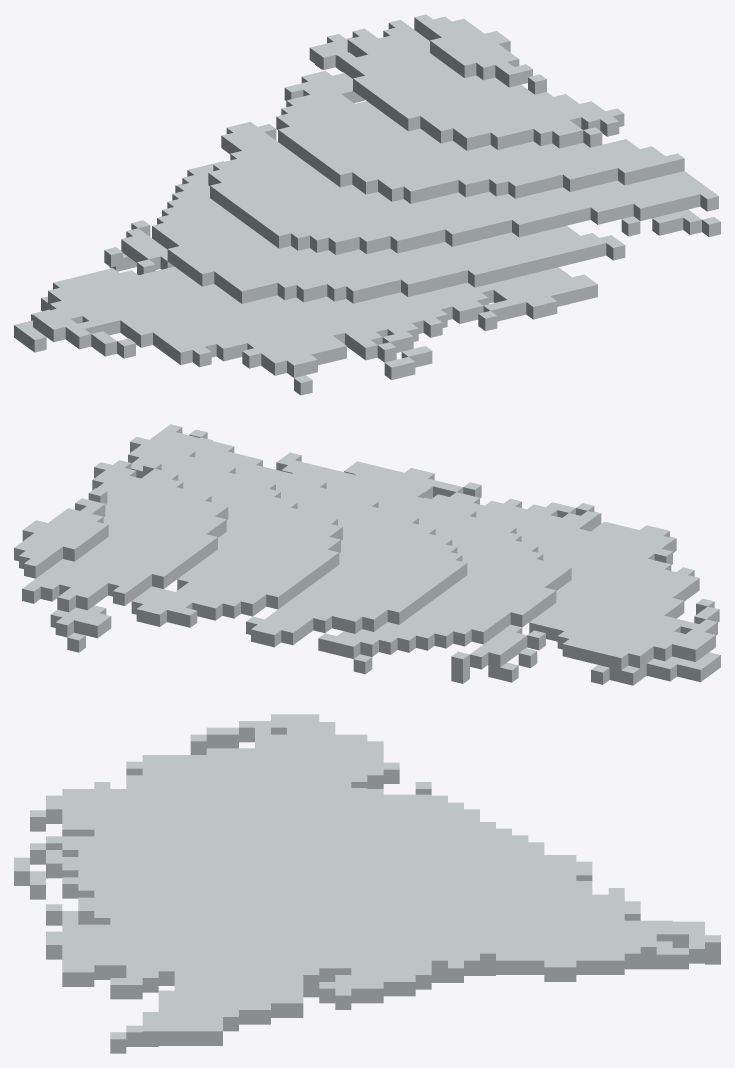
Rendered from Airplane-0.obj.
The picture shows the model from 3 angles, top to bottom: view 1: azimuth 30°, elevation 25°; view 2: azimuth 150°, elevation 25°; view 3: azimuth 270°, elevation 25°; orthographic projection. The views are drawn at different scales.
Bounding box in the file's own units: 5.2 × 0.7 × 4.4.
Materials: 1 (1 with a texture image).
